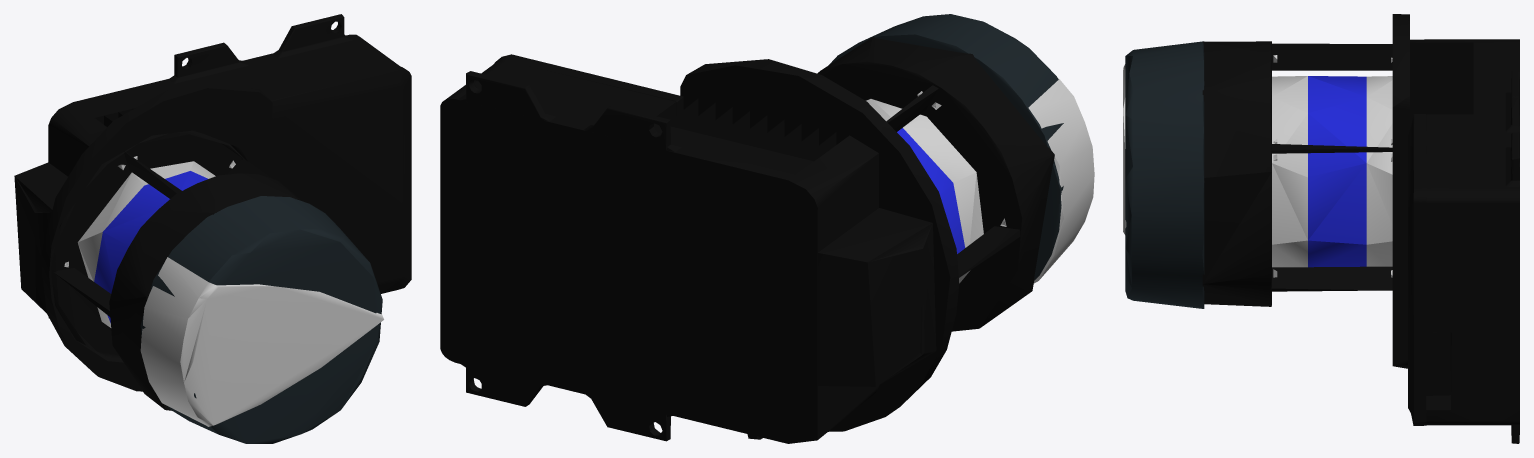
File: base_eap.obj
3 views of the same model, side by side, from view 1: azimuth 30°, elevation 25°; view 2: azimuth 150°, elevation 25°; view 3: azimuth 270°, elevation 25° (orthographic). The views are drawn at different scales.
Visible parts, largest first — view 1: base_eap; view 2: base_eap; view 3: base_eap.
Part boxes in pixels (<box>): base_eap: <box>14,14,411,443</box>; base_eap: <box>440,14,1094,443</box>; base_eap: <box>1123,14,1519,443</box>.
Size of the model in its own units: 0.1407 by 0.1073 by 0.1205.
